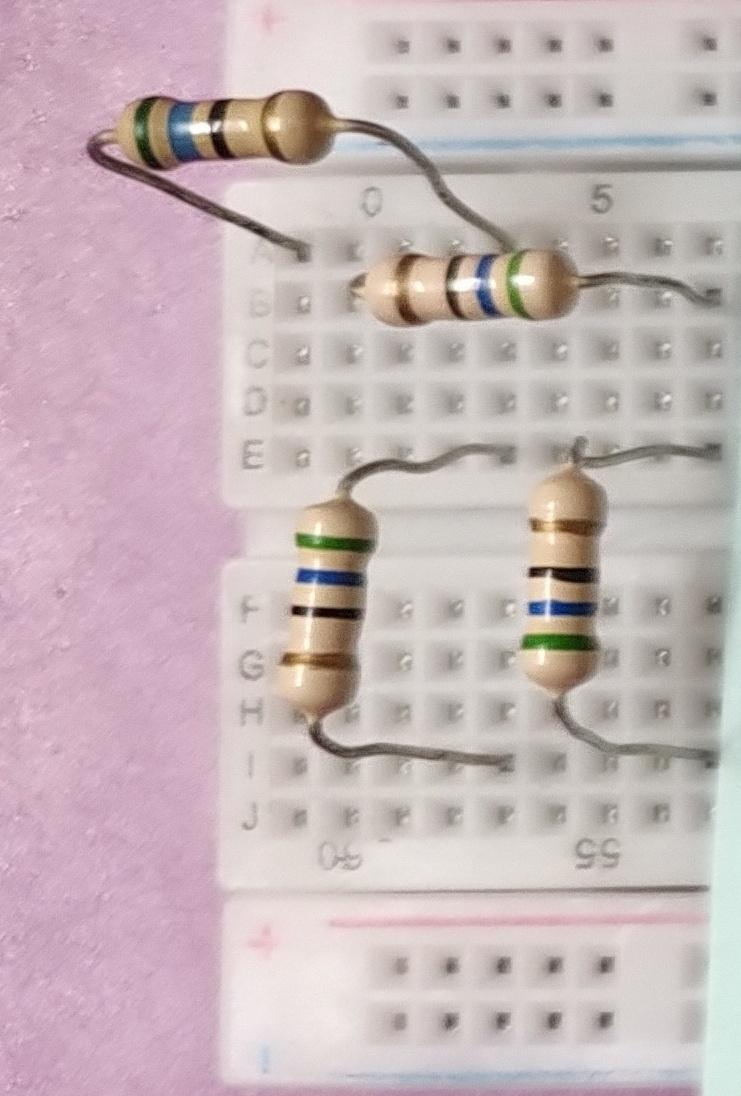resistor: (253, 462, 388, 748), (490, 445, 618, 710), (100, 72, 352, 190), (360, 238, 592, 340)
